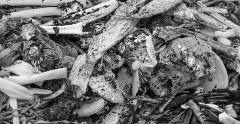organic: (157, 33, 221, 97), (38, 0, 118, 38), (4, 58, 68, 102), (89, 68, 127, 106)
